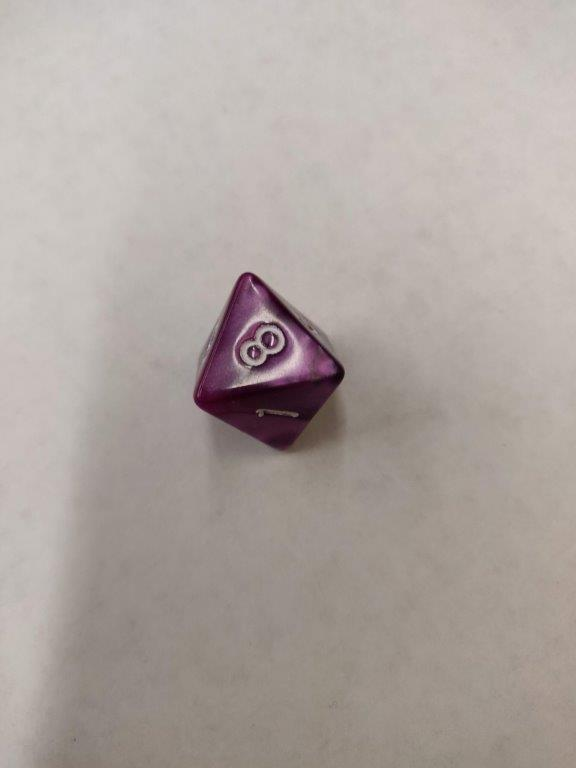d8-8: (192, 270, 347, 455)
